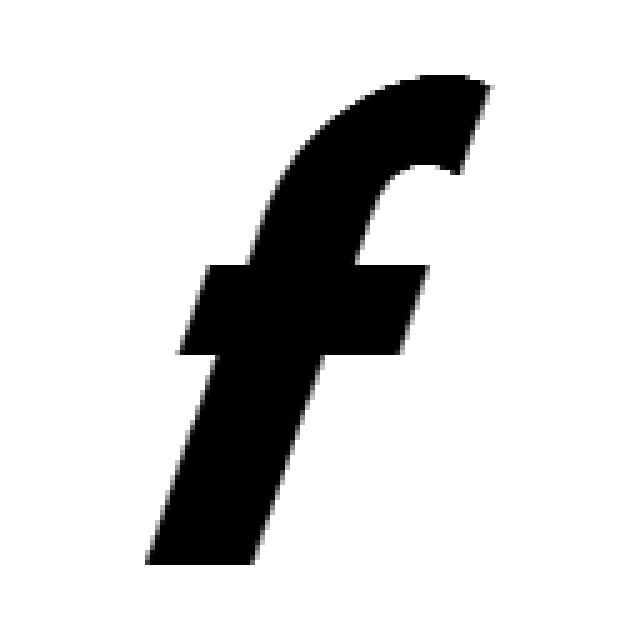F: (135, 65, 495, 570)
